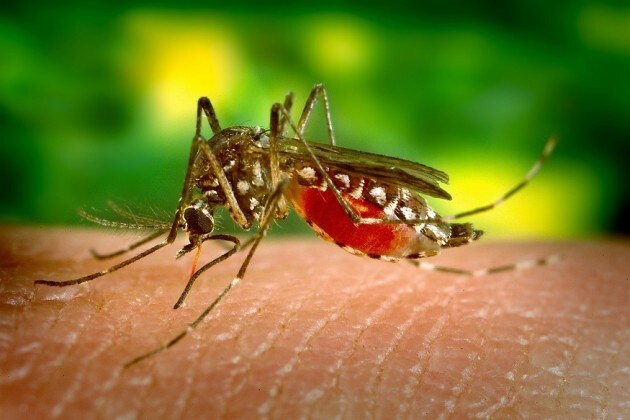dengue_mosquito: (35, 84, 485, 312)
